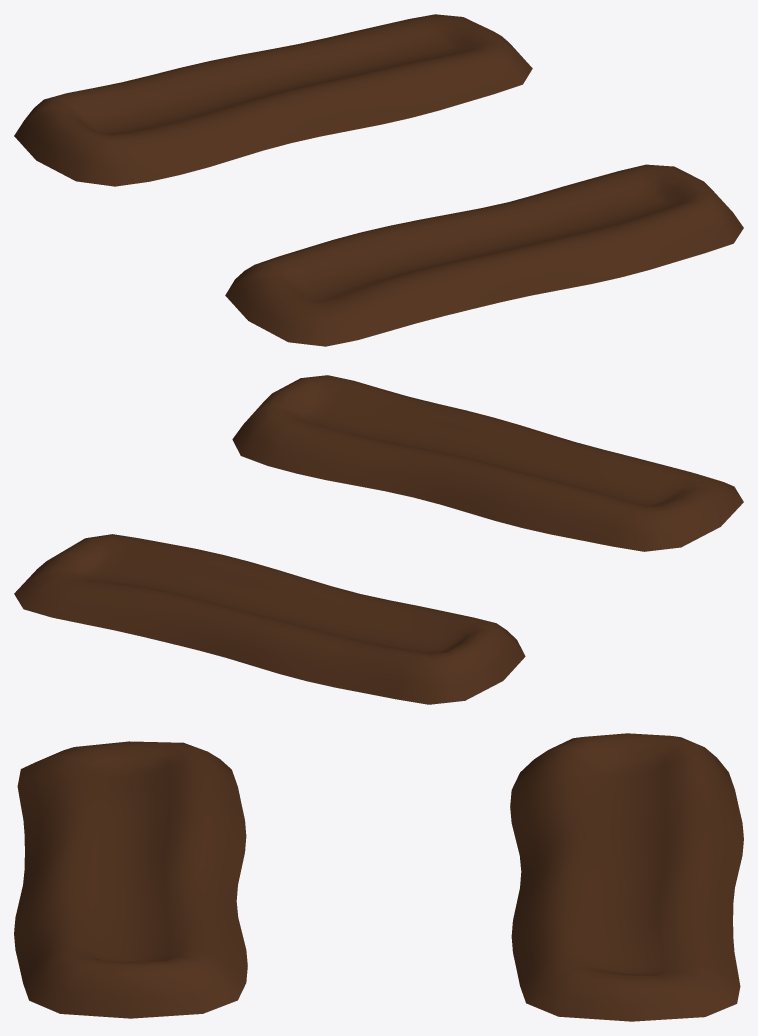
Rendered from Turnip1.fbx.
3 views of the same model, one above another, from view 1: azimuth 30°, elevation 25°; view 2: azimuth 150°, elevation 25°; view 3: azimuth 270°, elevation 25° (orthographic). The views are drawn at different scales.
Visible parts, largest first — view 1: 1; view 2: 1; view 3: 1.
Part boxes in pixels (box(x1,y1,x2,y2)): 1: box(14, 14, 743, 346); 1: box(14, 375, 743, 704); 1: box(14, 733, 743, 1021).
Bounding box in the file's own units: 272 × 17.1 × 310.
